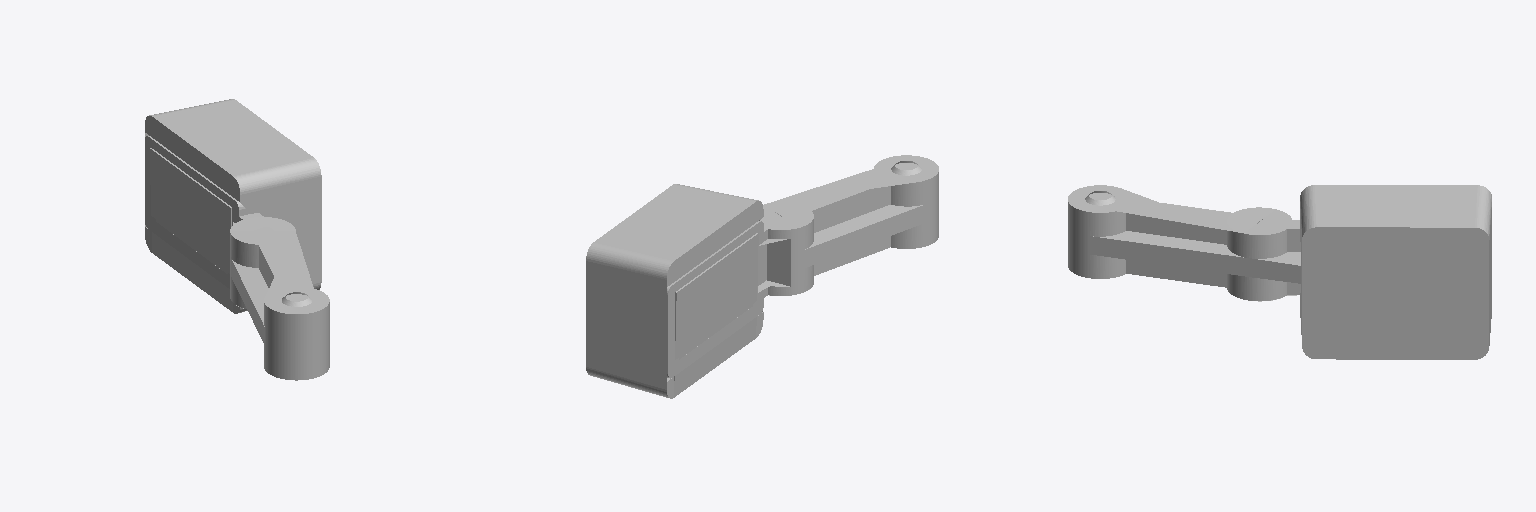
Rendered from gripper_left_paddle.obj.
3 views of the same model, side by side, from view 1: azimuth 30°, elevation 25°; view 2: azimuth 150°, elevation 25°; view 3: azimuth 270°, elevation 25° (orthographic).
Visible parts, largest first — view 1: Mesh1 Gripper_left_paddle1 Model; view 2: Mesh1 Gripper_left_paddle1 Model; view 3: Mesh1 Gripper_left_paddle1 Model.
Boxes of the visible parts, <box> form: Mesh1 Gripper_left_paddle1 Model: <box>145,99,329,380</box>; Mesh1 Gripper_left_paddle1 Model: <box>586,155,938,398</box>; Mesh1 Gripper_left_paddle1 Model: <box>1068,185,1491,359</box>.
Size of the model in its own units: 0.0249 by 0.021 by 0.0592.